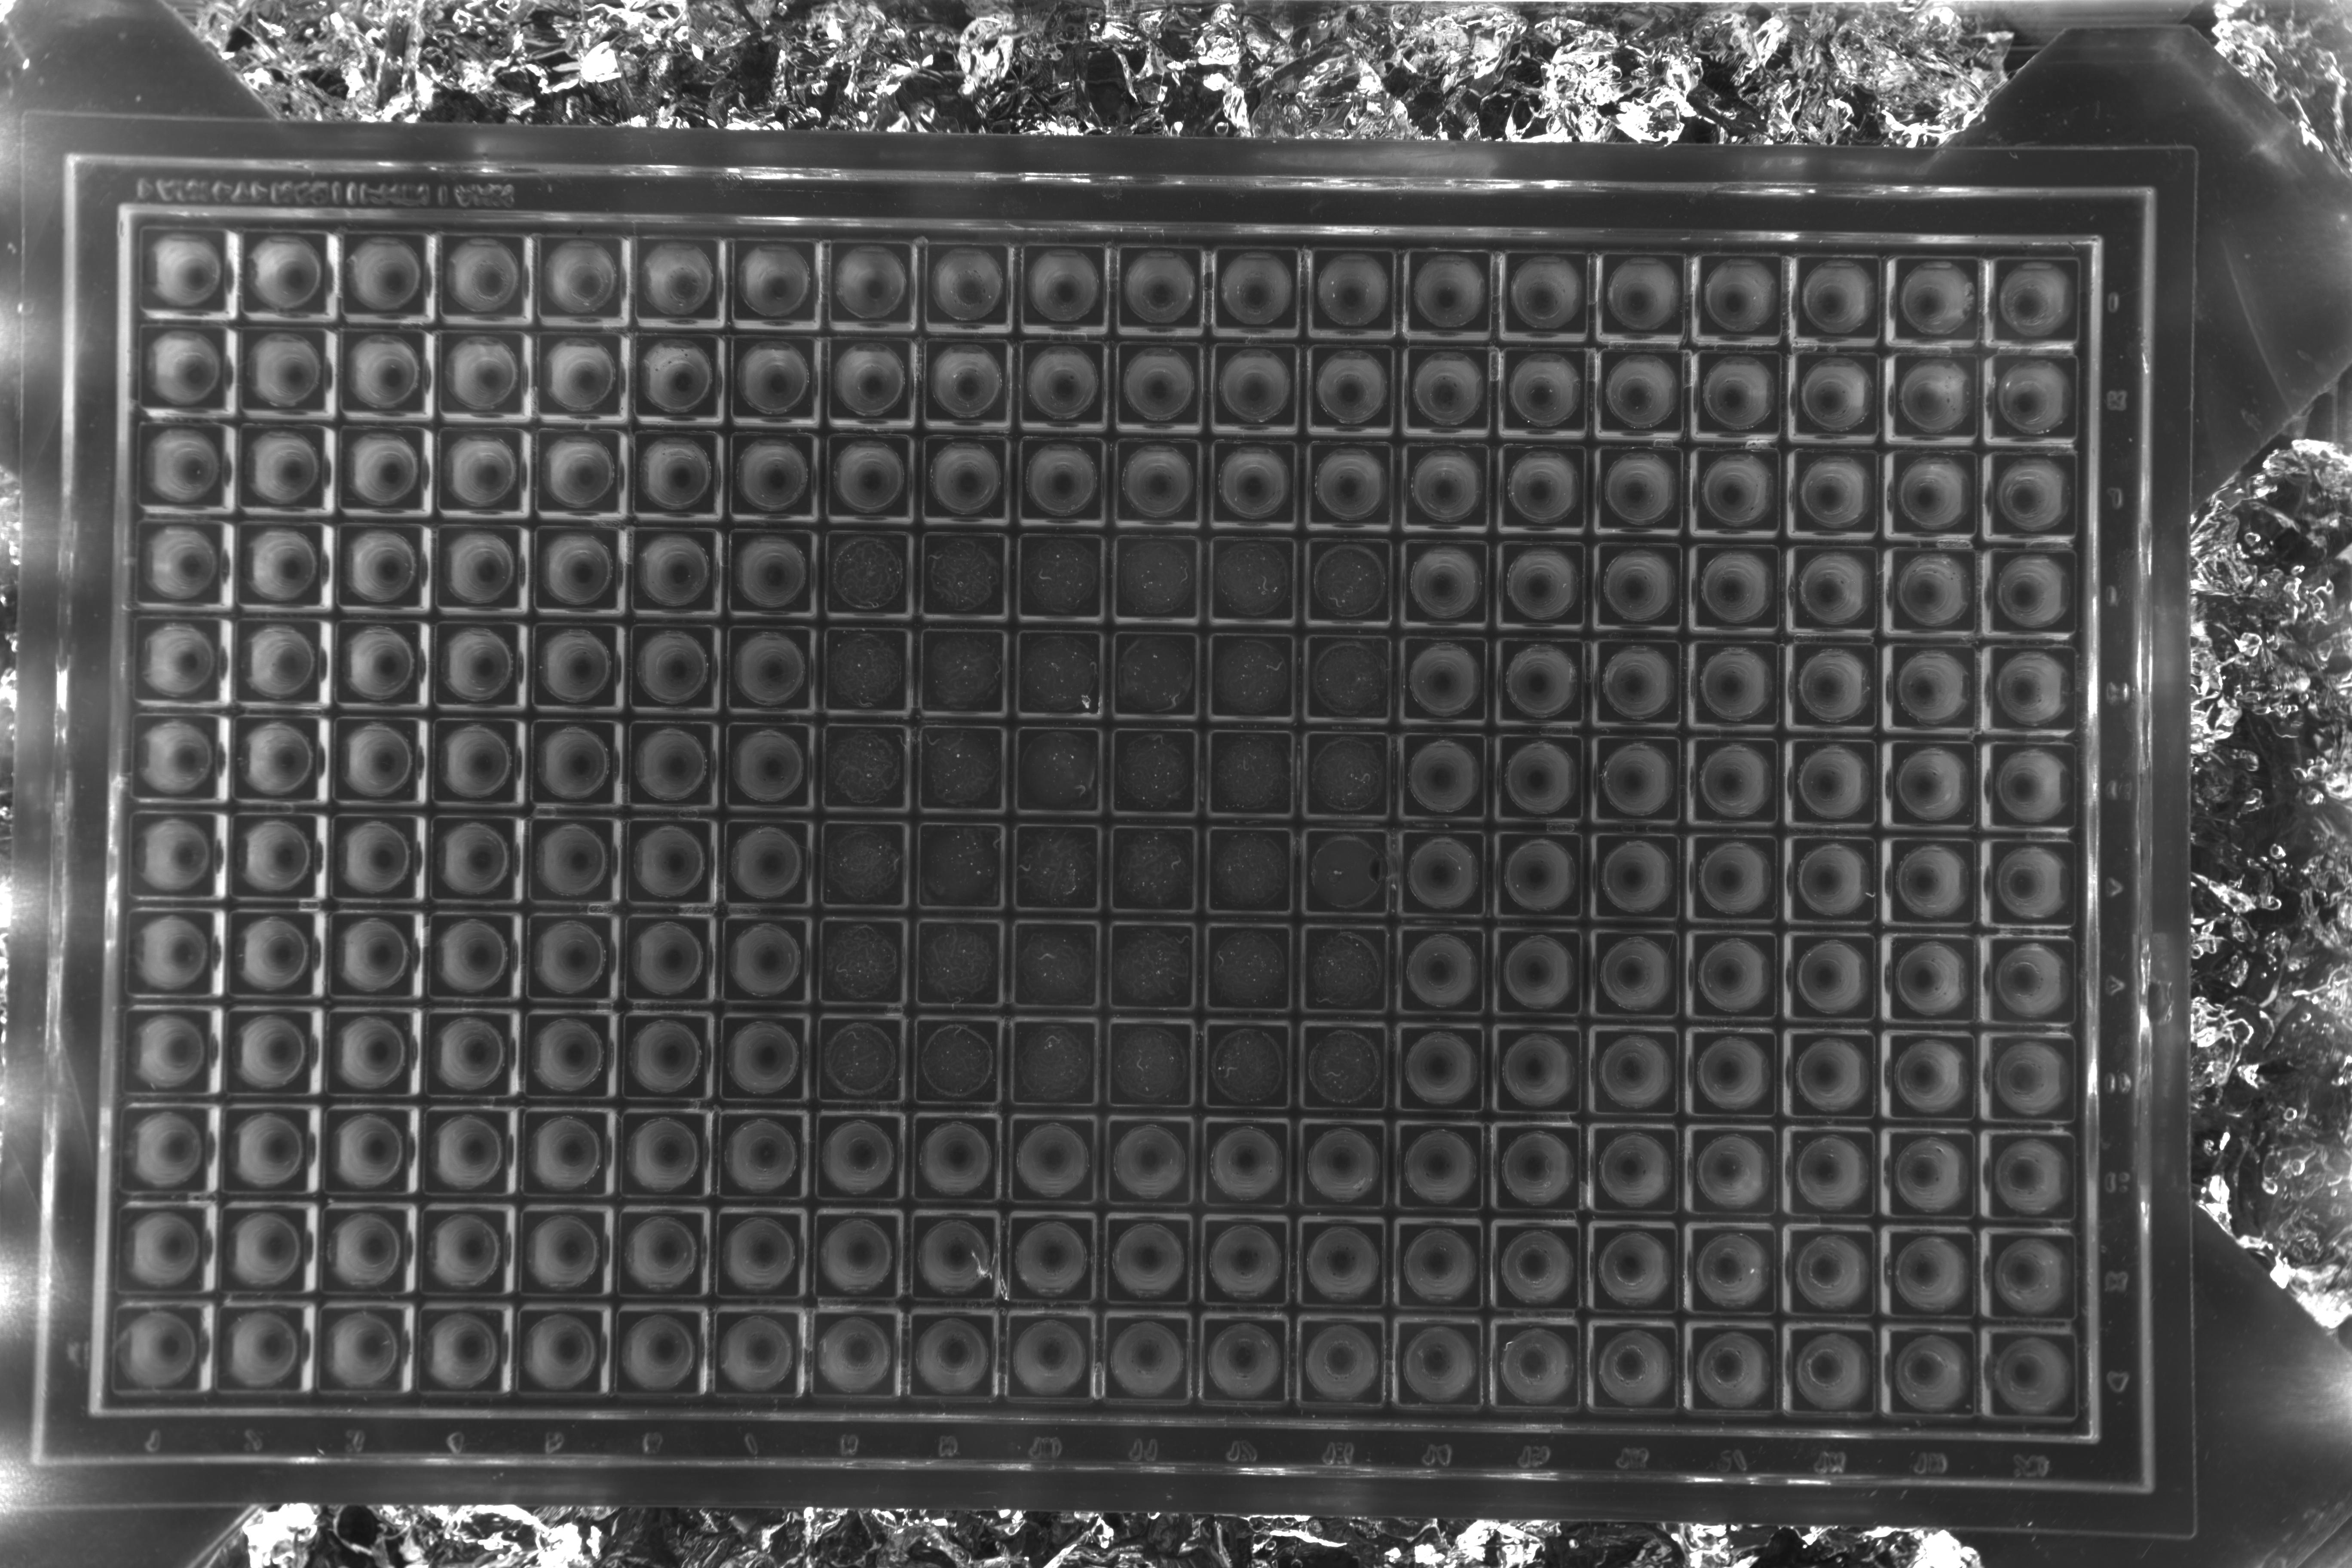WM_well: (397, 847, 486, 934), (982, 947, 1071, 1034), (1862, 1052, 1951, 1139), (401, 264, 488, 352), (588, 1241, 675, 1328), (595, 266, 682, 353), (693, 558, 780, 646), (887, 462, 975, 549), (980, 1239, 1067, 1326), (1078, 1337, 1165, 1424), (1078, 1239, 1165, 1326), (1272, 269, 1360, 357), (1274, 1241, 1361, 1328), (1466, 850, 1554, 938), (1468, 1046, 1556, 1134), (1661, 560, 1748, 647), (1664, 1048, 1752, 1136), (1666, 1246, 1753, 1333), (1857, 268, 1944, 355), (1858, 658, 1946, 745), (1962, 1052, 2049, 1139), (2056, 464, 2144, 551), (2060, 856, 2147, 943)
